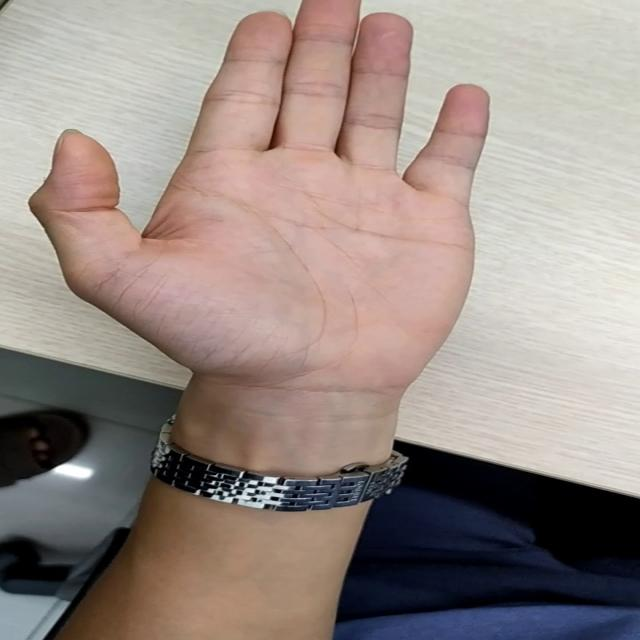hand: (7, 6, 527, 396)
